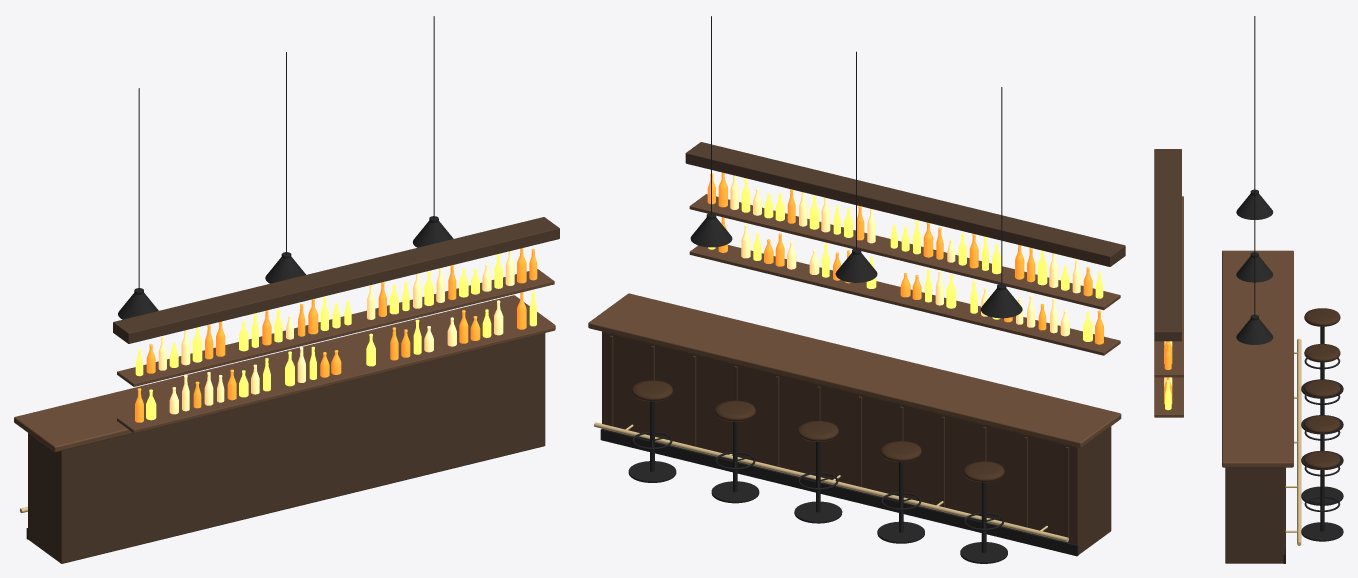
Rendered from bar.glb.
3 views of the same model, side by side, from view 1: azimuth 30°, elevation 25°; view 2: azimuth 150°, elevation 25°; view 3: azimuth 270°, elevation 25° (orthographic). The views are drawn at different scales.
Visible parts, largest first — view 1: counter, back_bar, pendant_0, pendant_2, pendant_1; view 2: counter, back_bar, stools, pendant_0, pendant_2, pendant_1; view 3: counter, back_bar, stools, pendant_2, pendant_1, pendant_0.
Boxes of the visible parts, bbox=[...] form: counter: bbox=[14, 295, 555, 563]; back_bar: bbox=[113, 217, 559, 433]; pendant_0: bbox=[118, 88, 158, 319]; pendant_2: bbox=[413, 16, 453, 247]; pendant_1: bbox=[265, 52, 305, 283]; counter: bbox=[588, 293, 1121, 556]; back_bar: bbox=[685, 142, 1125, 355]; stools: bbox=[628, 380, 1007, 563]; pendant_0: bbox=[981, 87, 1022, 318]; pendant_2: bbox=[690, 16, 732, 247]; pendant_1: bbox=[835, 51, 877, 282]; counter: bbox=[1222, 250, 1301, 563]; back_bar: bbox=[1154, 149, 1183, 417]; stools: bbox=[1301, 308, 1343, 541]; pendant_2: bbox=[1236, 141, 1273, 344]; pendant_1: bbox=[1236, 78, 1273, 282]; pendant_0: bbox=[1236, 16, 1273, 219].
Bounding box in the file's own units: 4.76 × 4 × 1.79.
